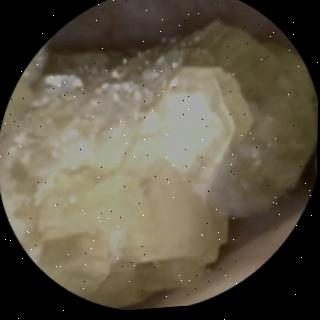stone: (3, 26, 318, 309)
